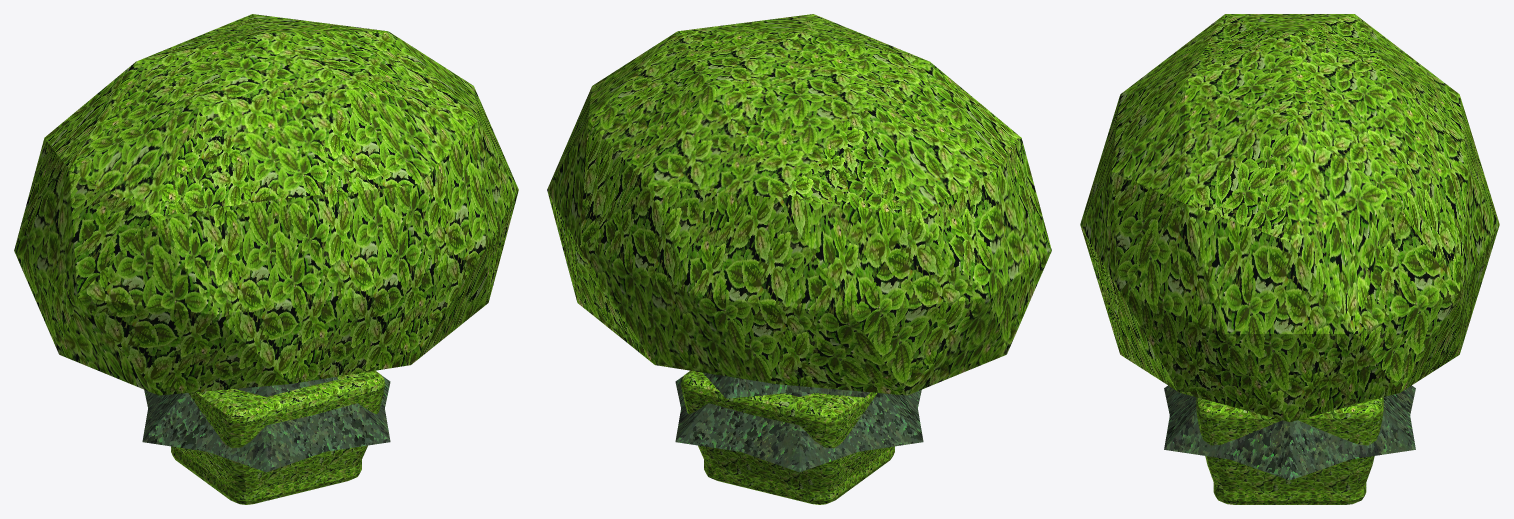
Rendered from feature_tiles.glb.
The picture shows the model from 3 angles, left to right: view 1: azimuth 30°, elevation 25°; view 2: azimuth 150°, elevation 25°; view 3: azimuth 270°, elevation 25°; orthographic projection.
Visible parts, largest first — view 1: leafy_tree, leafy_bush, evergreen_tree; view 2: leafy_tree, leafy_bush, evergreen_tree; view 3: leafy_tree, leafy_bush, evergreen_tree.
Boxes of the visible parts, box(x1,y1,x2,y2) form: leafy_tree: box(14, 14, 518, 395); leafy_bush: box(171, 370, 385, 504); evergreen_tree: box(142, 376, 390, 472); leafy_tree: box(547, 14, 1051, 395); leafy_bush: box(680, 370, 894, 504); evergreen_tree: box(675, 372, 923, 472); leafy_tree: box(1080, 14, 1499, 421); leafy_bush: box(1196, 397, 1383, 504); evergreen_tree: box(1164, 385, 1415, 480).
Size of what is drawn, in the model's own units: 5.43 by 5.16 by 4.41.
Materials: 5 (4 with a texture image).
